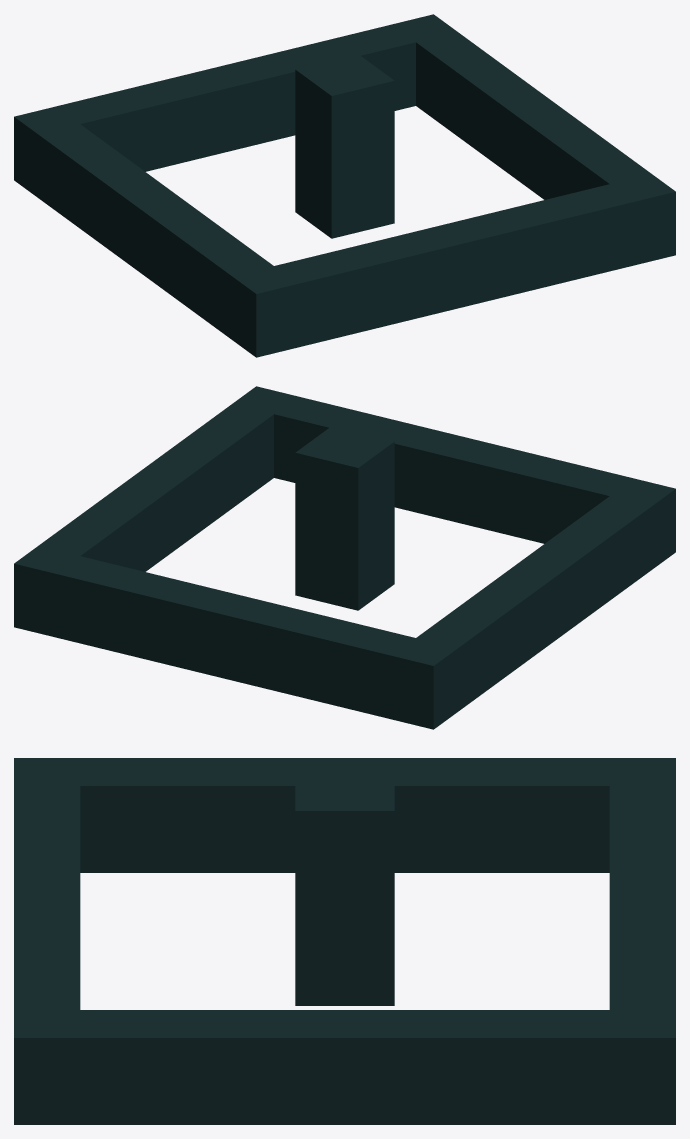
The model's file is oc_fountain_01_collision.glb.
The picture shows the model from 3 angles, top to bottom: view 1: azimuth 30°, elevation 25°; view 2: azimuth 150°, elevation 25°; view 3: azimuth 270°, elevation 25°; orthographic projection. The views are drawn at different scales.
Parts seen in each view (by area): view 1: COL_RingS, COL_RingN, COL_RingW, COL_RingE, COL_Pedestal; view 2: COL_RingN, COL_RingS, COL_RingW, COL_RingE, COL_Pedestal; view 3: COL_RingE, COL_RingW, COL_RingN, COL_RingS, COL_Pedestal.
Part boxes in pixels (<box>): COL_RingS: <box>232,174,675,357</box>; COL_RingN: <box>14,14,457,197</box>; COL_RingW: <box>38,124,273,339</box>; COL_RingE: <box>416,32,651,199</box>; COL_Pedestal: <box>295,54,394,238</box>; COL_RingN: <box>14,546,457,729</box>; COL_RingS: <box>232,386,675,569</box>; COL_RingW: <box>416,496,651,711</box>; COL_RingE: <box>38,404,273,571</box>; COL_Pedestal: <box>295,426,394,610</box>; COL_RingE: <box>80,1010,609,1124</box>; COL_RingW: <box>80,758,609,872</box>; COL_RingN: <box>609,758,675,1124</box>; COL_RingS: <box>14,758,80,1124</box>; COL_Pedestal: <box>295,769,394,1005</box>.
Bounding box in the file's own units: 4 × 1.3 × 4.
